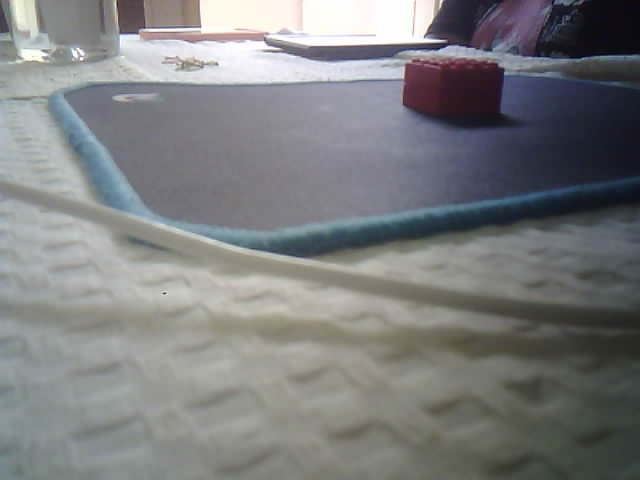lego: (401, 56, 504, 118)
